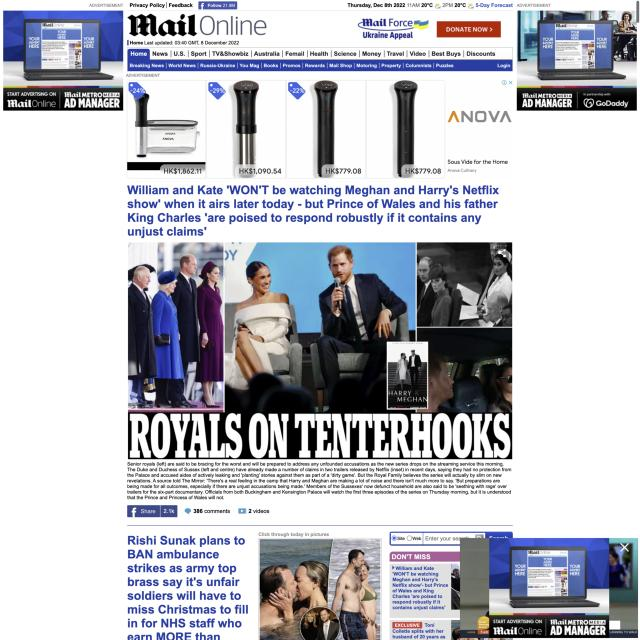logo: (126, 11, 272, 38)
navigation: (127, 62, 457, 70)
